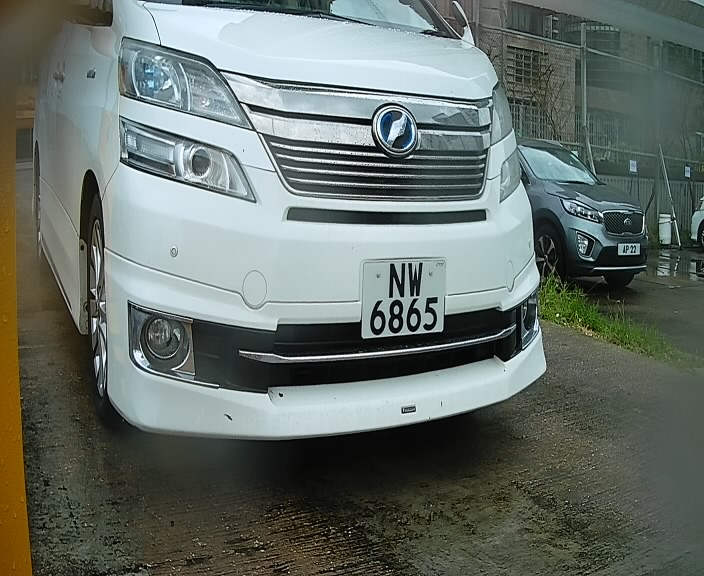Car: (16, 2, 566, 476)
License Plate: (350, 249, 455, 351)
